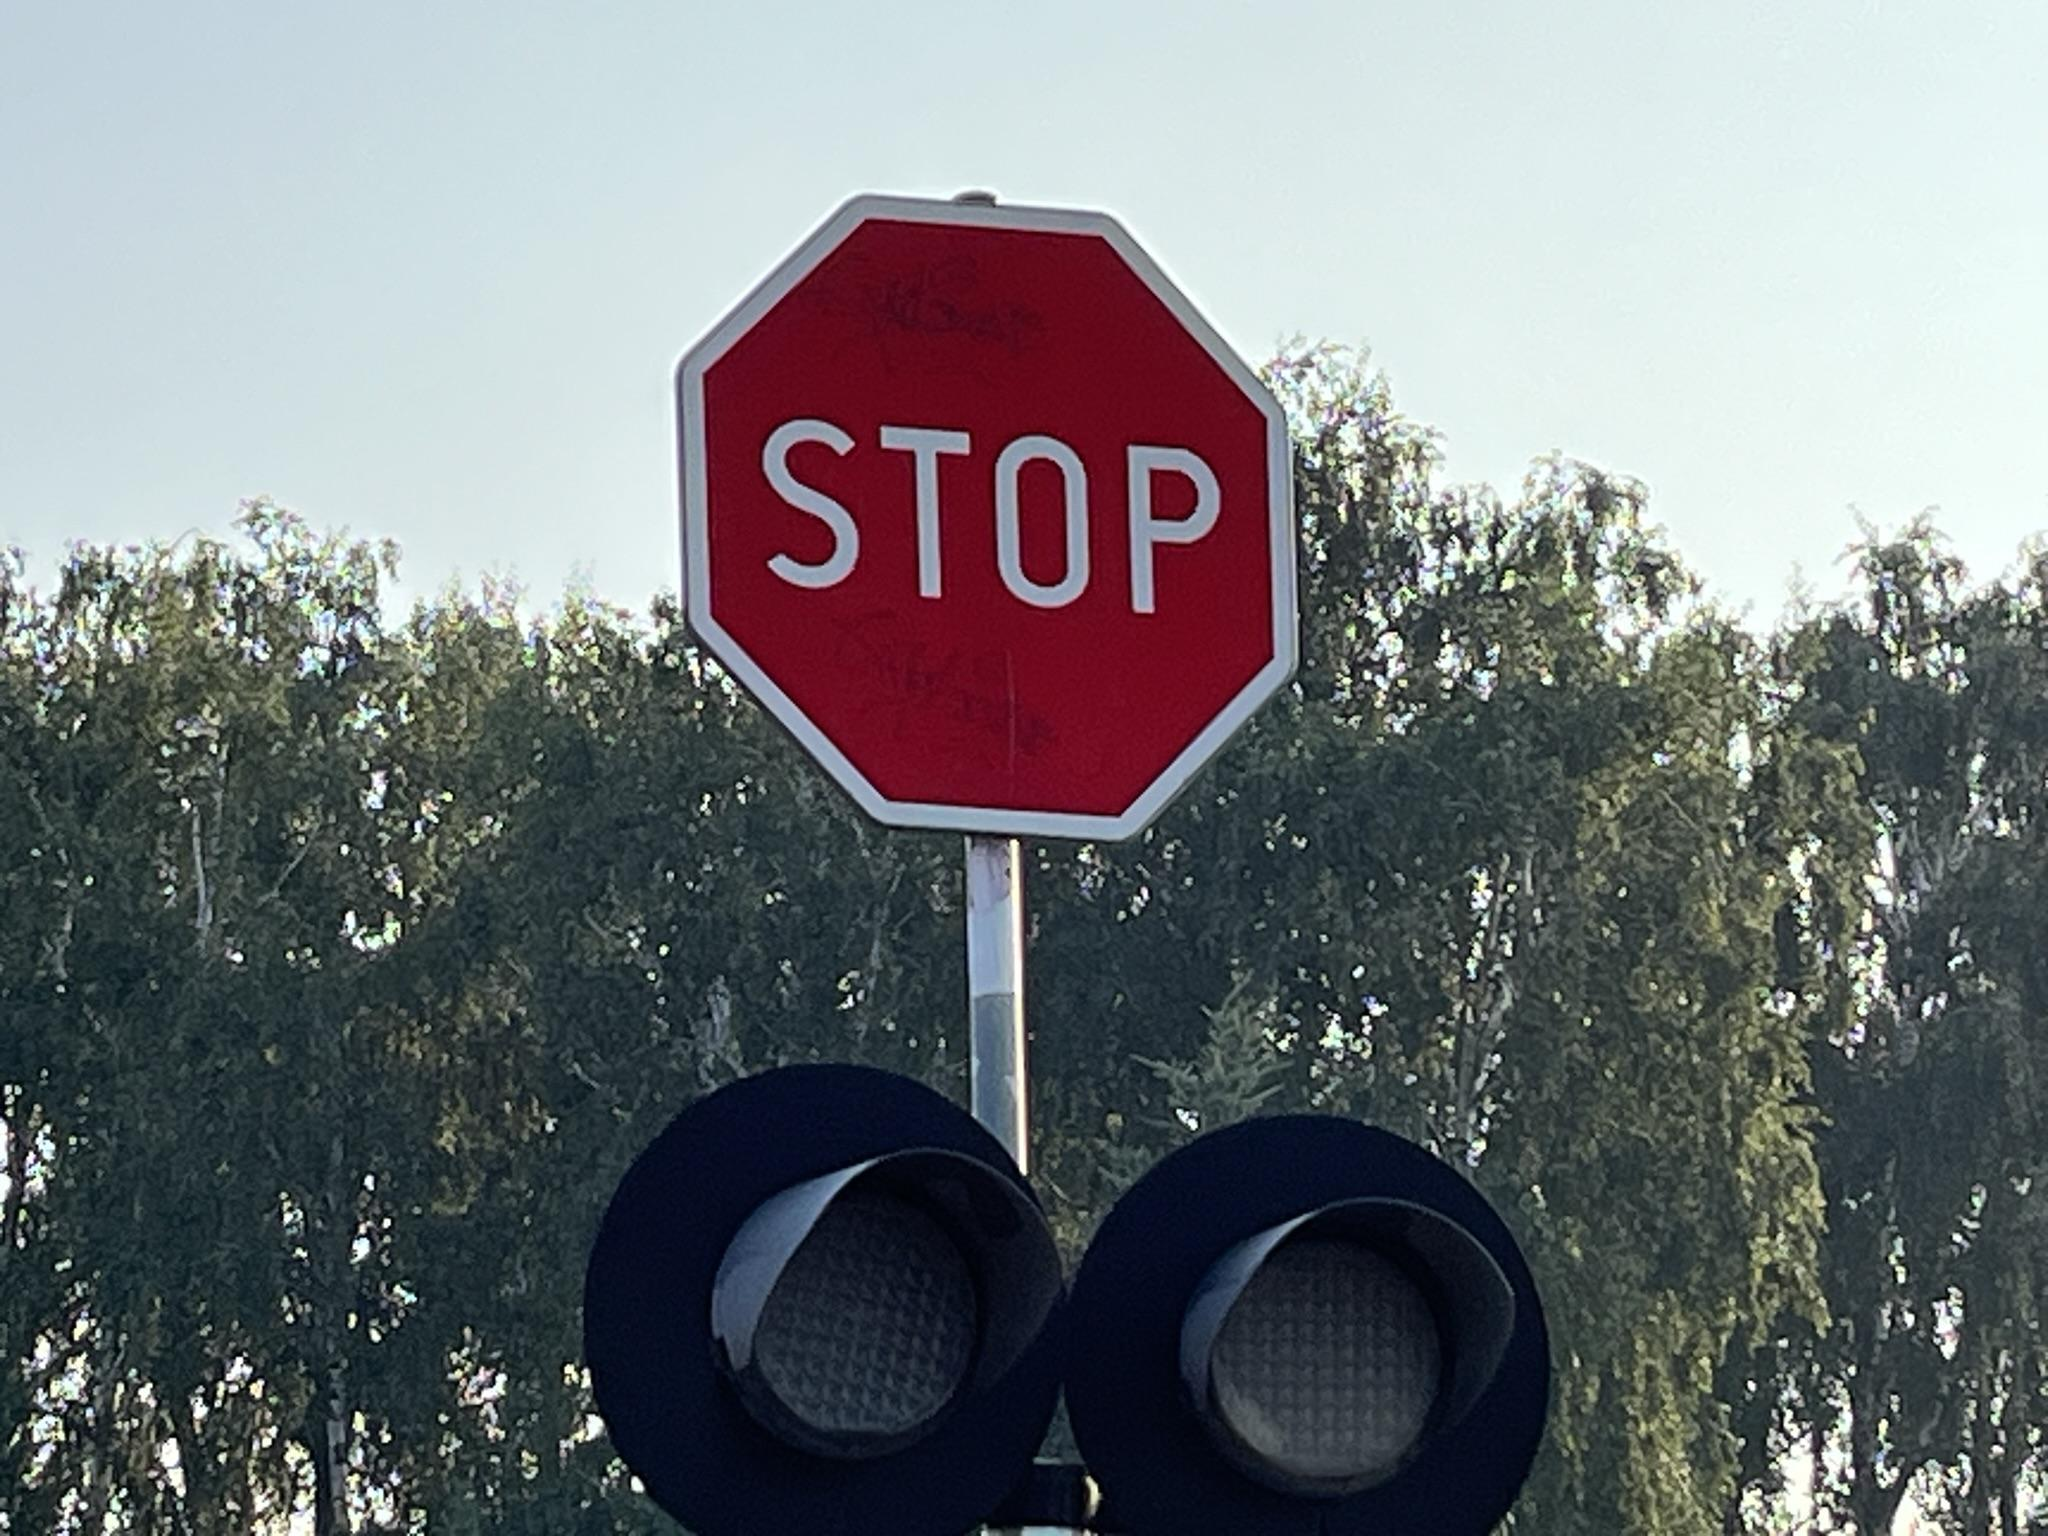prohibitory: (674, 189, 1301, 845)
